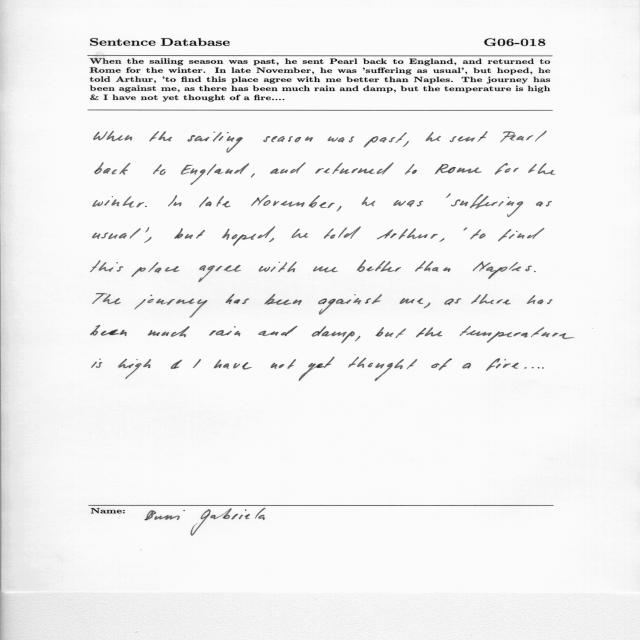word: (460, 326, 574, 343), (135, 295, 208, 318), (451, 194, 523, 217), (348, 357, 417, 381), (181, 163, 249, 185), (318, 294, 382, 315), (187, 132, 243, 153), (251, 195, 335, 208), (473, 261, 532, 279), (222, 226, 275, 246), (315, 163, 393, 175), (299, 357, 335, 381), (199, 265, 242, 282), (312, 326, 355, 343), (132, 262, 180, 277), (377, 229, 438, 240), (118, 359, 151, 379), (364, 133, 407, 148), (93, 196, 144, 208), (498, 228, 544, 241), (93, 228, 141, 239), (357, 260, 401, 272), (500, 131, 547, 142), (324, 226, 361, 239), (148, 326, 190, 337), (435, 164, 481, 174), (95, 163, 131, 175), (486, 358, 519, 371), (450, 131, 488, 142), (265, 294, 302, 305), (90, 325, 127, 336), (471, 294, 511, 304), (91, 260, 124, 272), (259, 326, 298, 336), (271, 163, 306, 174), (415, 261, 450, 272), (94, 131, 132, 141), (259, 262, 297, 272), (214, 360, 252, 370), (199, 196, 231, 207), (174, 228, 205, 239), (209, 326, 240, 337), (375, 327, 406, 338), (528, 163, 555, 175), (93, 294, 121, 305), (263, 136, 313, 142), (495, 163, 519, 175), (416, 328, 442, 338), (431, 359, 452, 371), (271, 359, 296, 369), (150, 131, 172, 142), (527, 295, 553, 304), (226, 294, 249, 304), (394, 200, 424, 207), (328, 136, 354, 143), (313, 266, 338, 273), (470, 230, 486, 240), (168, 195, 182, 206), (292, 229, 309, 238), (425, 132, 441, 141), (400, 298, 424, 304), (405, 164, 417, 175), (153, 165, 165, 175), (445, 298, 462, 305), (362, 197, 375, 206), (92, 359, 103, 368), (171, 360, 182, 369), (536, 201, 552, 206), (193, 359, 201, 368), (463, 363, 472, 369), (144, 237, 152, 243), (403, 141, 409, 147), (424, 303, 430, 308), (525, 367, 540, 369), (337, 206, 342, 211), (355, 336, 360, 341), (251, 173, 255, 178), (446, 194, 451, 198), (145, 227, 149, 232), (269, 238, 274, 242), (440, 238, 445, 242), (464, 227, 468, 231), (542, 367, 544, 369), (145, 206, 147, 207), (534, 271, 536, 272)
